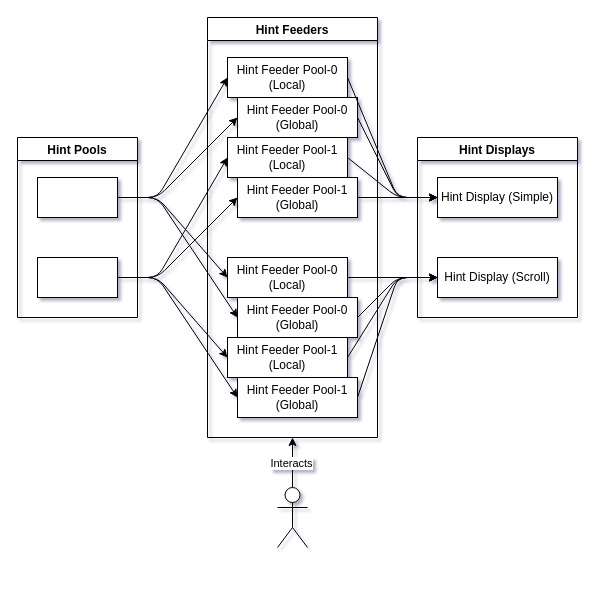
Image size: 601x592. Some labels were removed from this diagram. Here are the shapes that lost their labels. From the top down, the centre of each, then its label:
pixel 77 197: Hint Pool-0
pixel 77 277: Hint Pool-1
pixel 292 517: User
